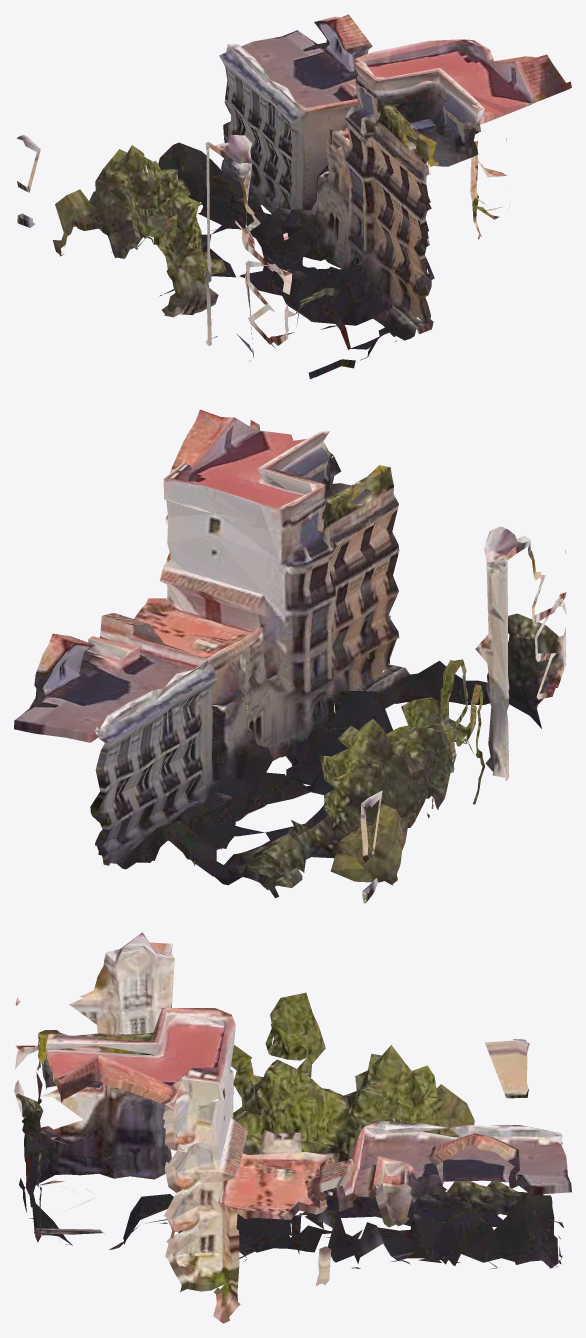
3 views of the same model, one above another, from view 1: azimuth 30°, elevation 25°; view 2: azimuth 150°, elevation 25°; view 3: azimuth 270°, elevation 25° (orthographic). The views are drawn at different scales.
Parts seen in each view (by area): view 1: Mesh_0; view 2: Mesh_0; view 3: Mesh_0.
Boxes of the visible parts, <box> form: Mesh_0: <box>17,14,571,378</box>; Mesh_0: <box>14,409,566,903</box>; Mesh_0: <box>14,932,571,1323</box>.
Bounding box in the file's own units: 34.1 × 22.2 × 41.42.
Materials: 2 (2 with a texture image).
